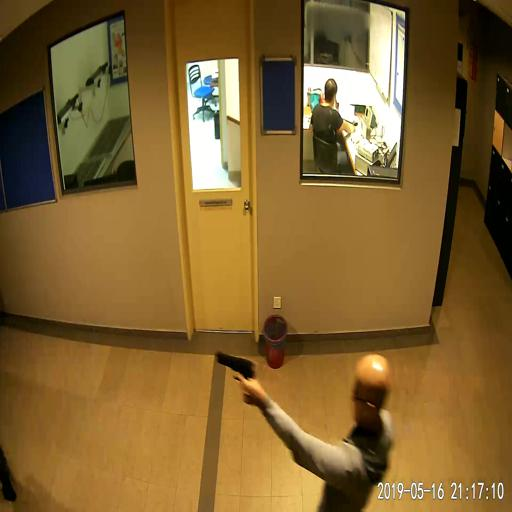pistol: (216, 352, 254, 404)
